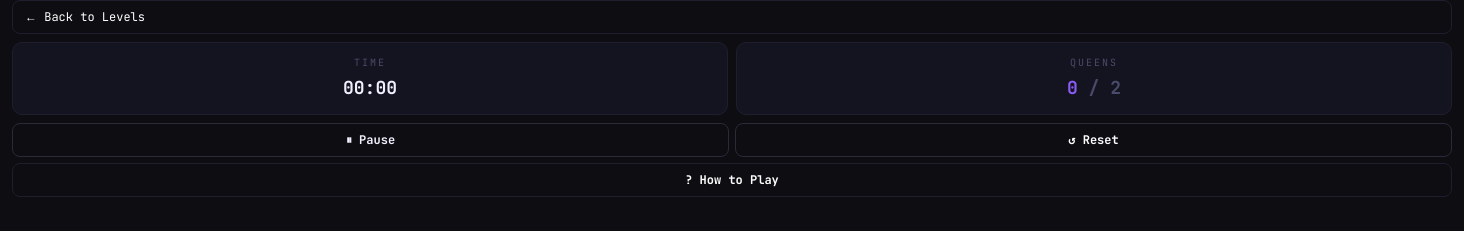
Scenario: GameSidebar › toggles pause and resume
The image size is (1464, 231).
Click the button "⏸ Pause".
click(370, 140)  # box [12,123,729,157]
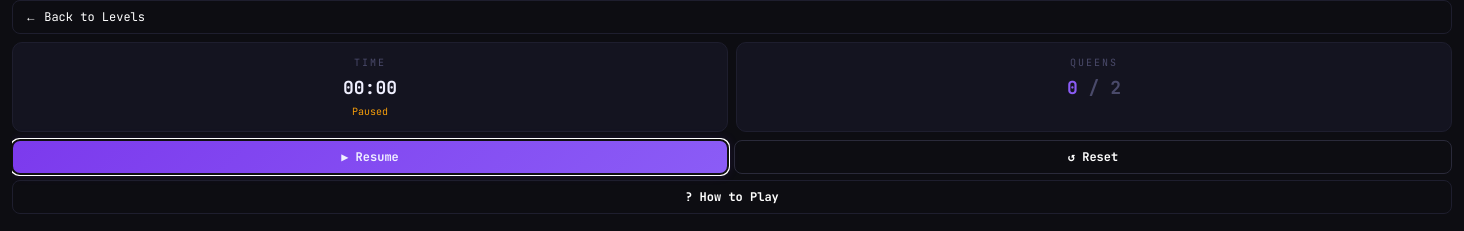
Expected: the button "▶ Resume" is shown
Click the button "▶ Resume".
click(370, 157)  # box [12,140,728,174]
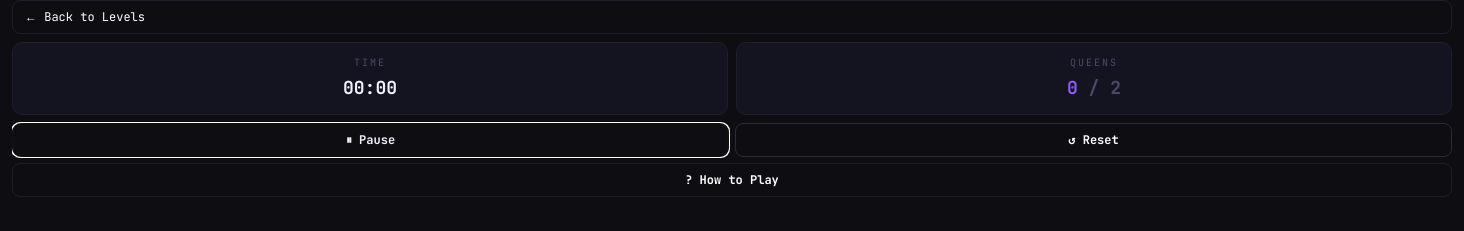
Expected: the button "⏸ Pause" is shown, [12,123,729,157]
